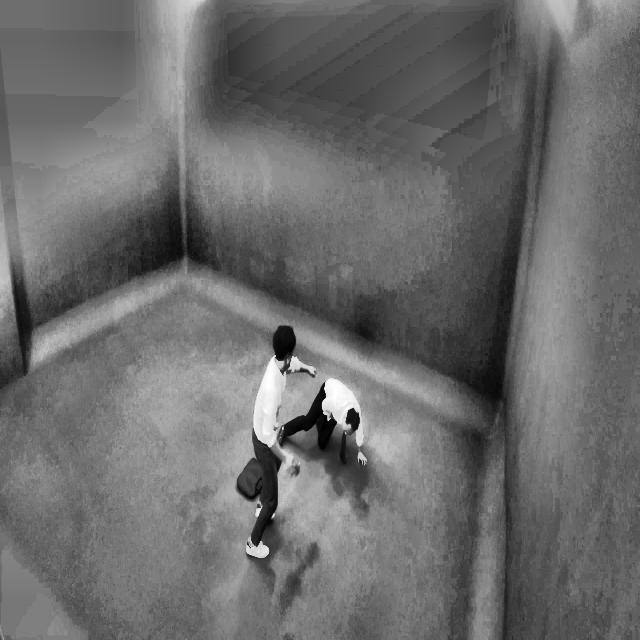assult: (235, 313, 376, 576), (256, 317, 376, 481)
